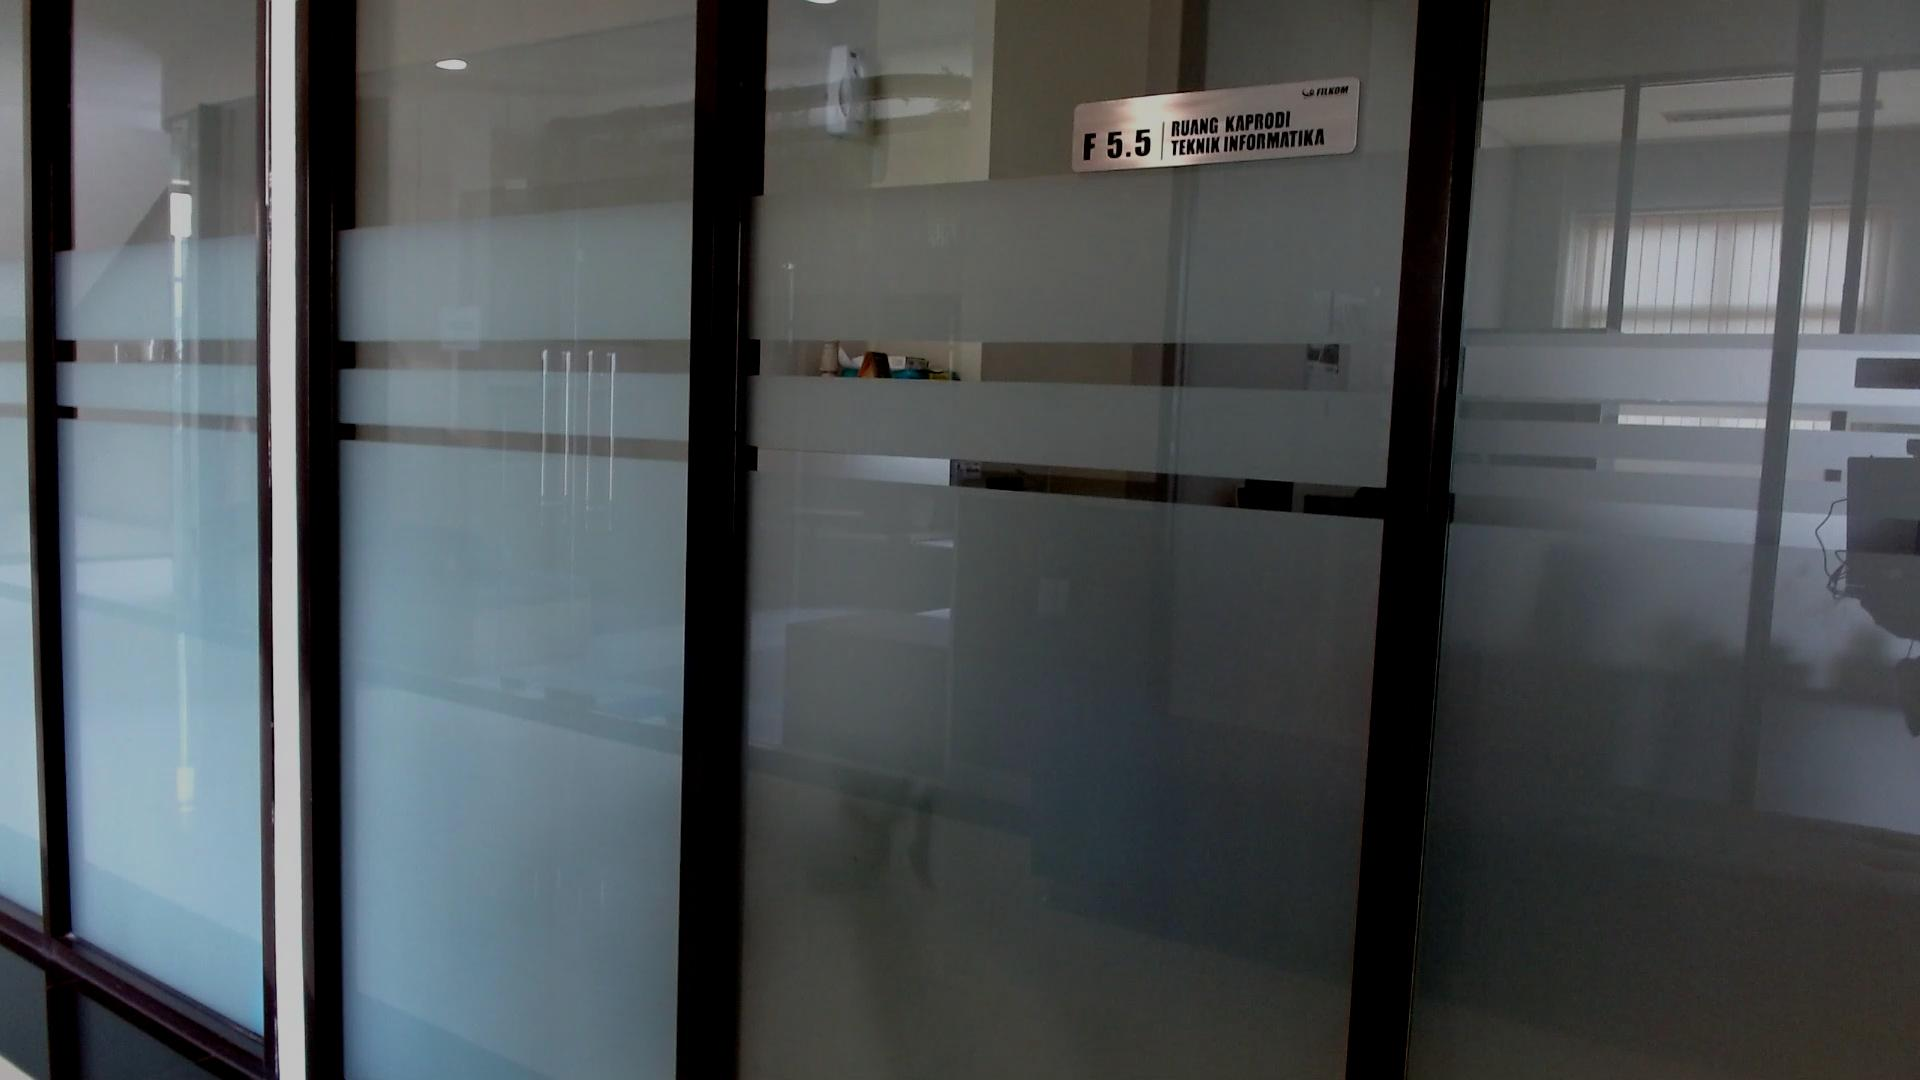plate: (1071, 74, 1362, 174)
